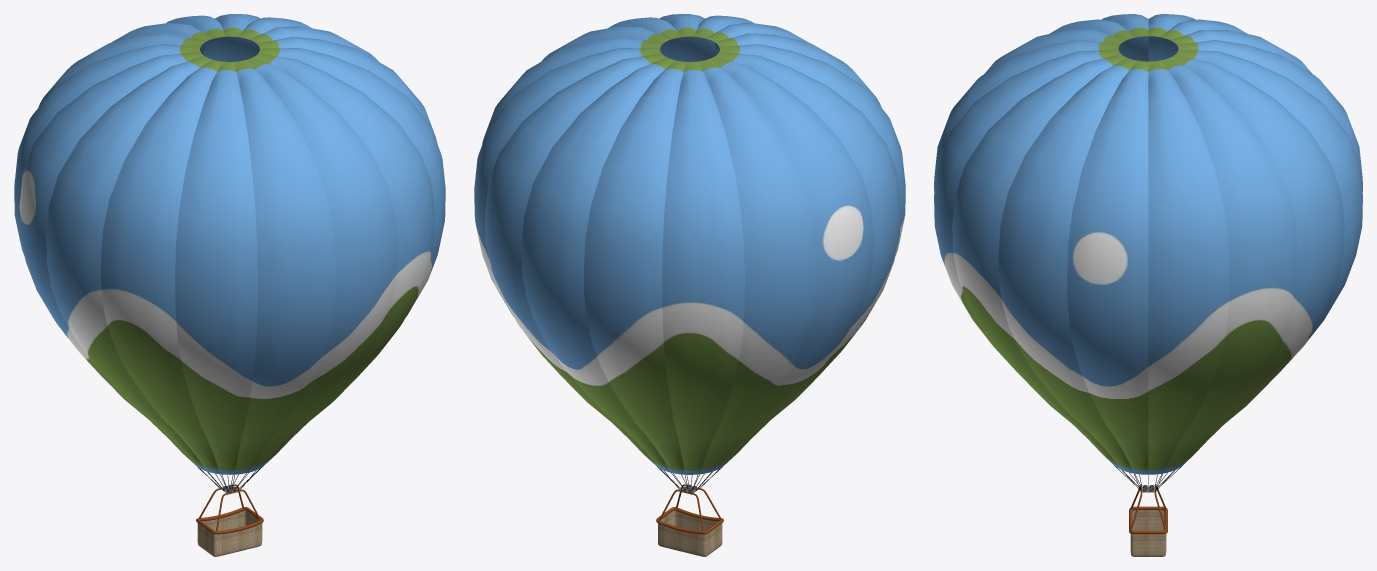
The model's file is balloon.glb.
The picture shows the model from 3 angles, left to right: view 1: azimuth 30°, elevation 25°; view 2: azimuth 150°, elevation 25°; view 3: azimuth 270°, elevation 25°; orthographic projection.
Size of the model in its own units: 14.47 by 18.54 by 14.47.
Materials: 5 (3 with a texture image).
